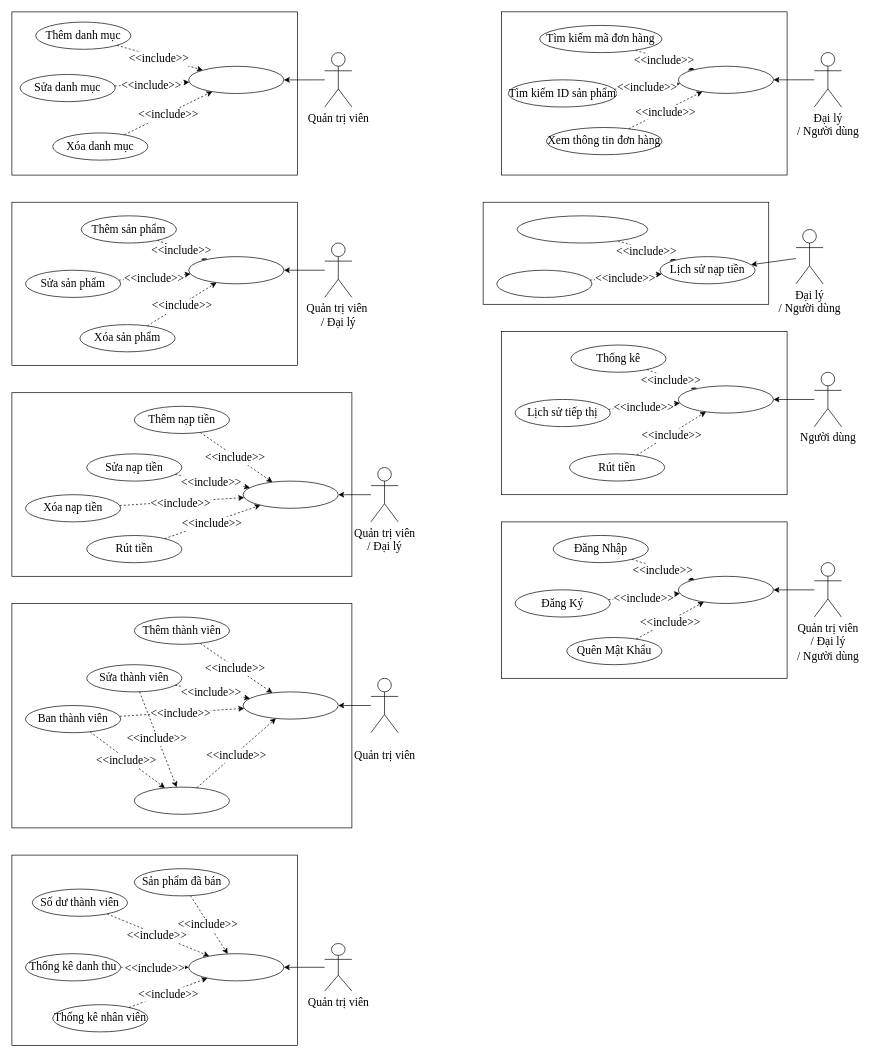
This 870x1058 diagram has some shape labels left out. Each missing label, with the centre of its shape:
Lịch sử mua hàng: the point at 726,79
Quản lý danh mục: the point at 236,80
Quản lý nạp tiền: the point at 290,494
Quản lý sản phẩm: the point at 236,270
Quản lý thành viên: the point at 290,705
Thống kê báo cáo: the point at 236,967
Tiếp thị: the point at 726,399
Tài khoản: the point at 726,590
Tìm kiếm mã giao dịch: the point at 582,229
Tìm kiếm số tiền: the point at 544,283
Tìm kiếm thành viên: the point at 182,800
